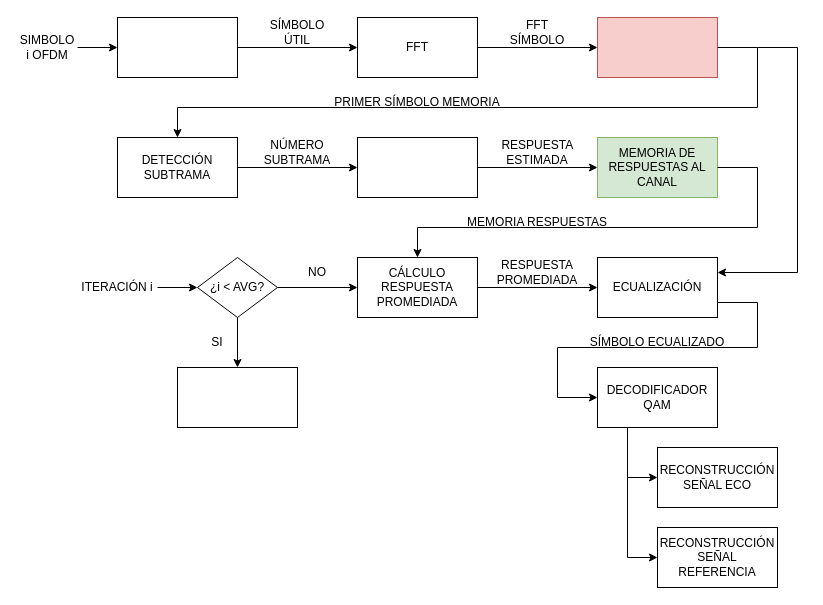
This 823x605 diagram has some shape labels left out. Each missing label, with the box of its shape:
CREACIÓN RESPUESTA AL CANAL: (356, 136, 478, 198)
ELIMINAR PREFIJO DE GUARDIA: (116, 16, 238, 78)
MEMORIA DE SÍMBOLOS: (596, 16, 718, 78)
SIGUIENTE ITERACIÓN: (176, 366, 298, 428)
